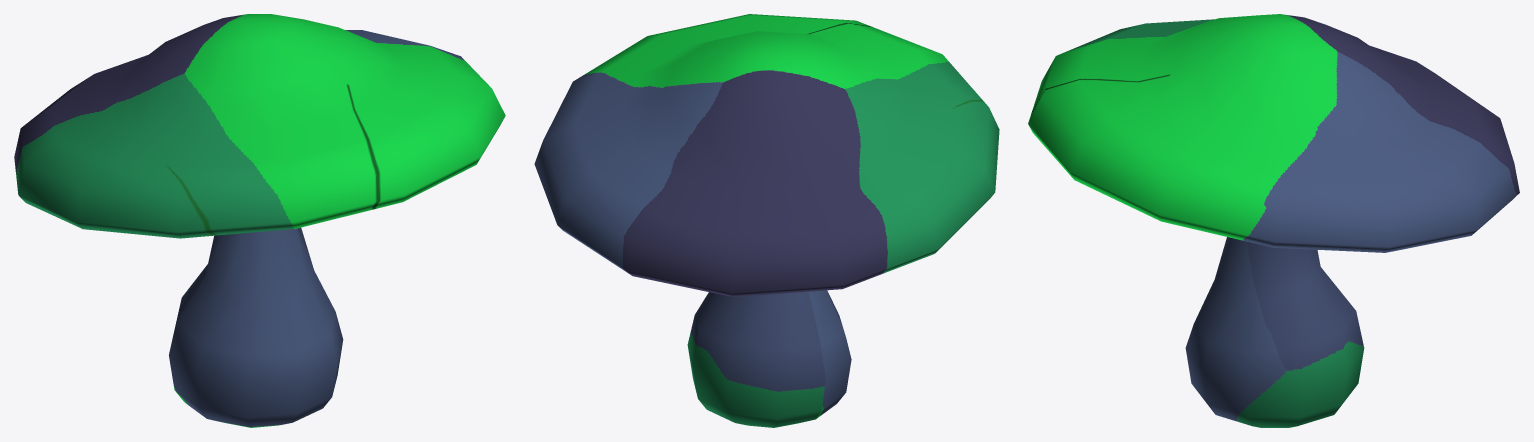
Rendered from Mesh_mushroom1.fbx.
3 views of the same model, side by side, from view 1: azimuth 30°, elevation 25°; view 2: azimuth 150°, elevation 25°; view 3: azimuth 270°, elevation 25° (orthographic). The views are drawn at different scales.
Parts seen in each view (by area): view 1: pCylinder5; view 2: pCylinder5; view 3: pCylinder5.
Part boxes in pixels (left/top/right/bottom): pCylinder5: left=14, top=14, right=505, bottom=427; pCylinder5: left=534, top=14, right=999, bottom=427; pCylinder5: left=1028, top=14, right=1519, bottom=427.
Bounding box in the file's own units: 64.82 × 55.54 × 64.59.
